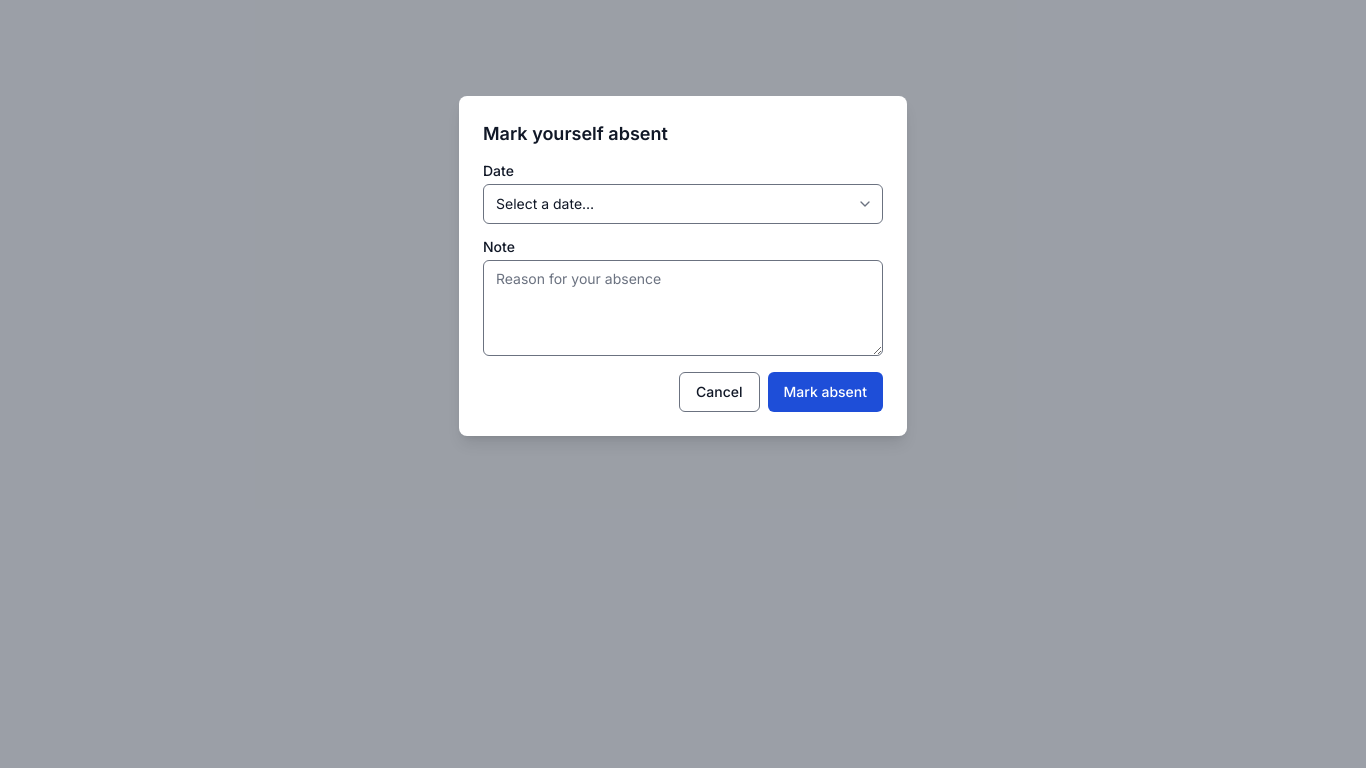
it: AbsenceMarkingDialog › only offers periods that are scheduled and not already cancelled/replaced
Select "Monday · Sep 14, 2026" in the dropdown labelled "Date" at x=683, y=204, box top-left (483, 184), bottom-right (883, 224)
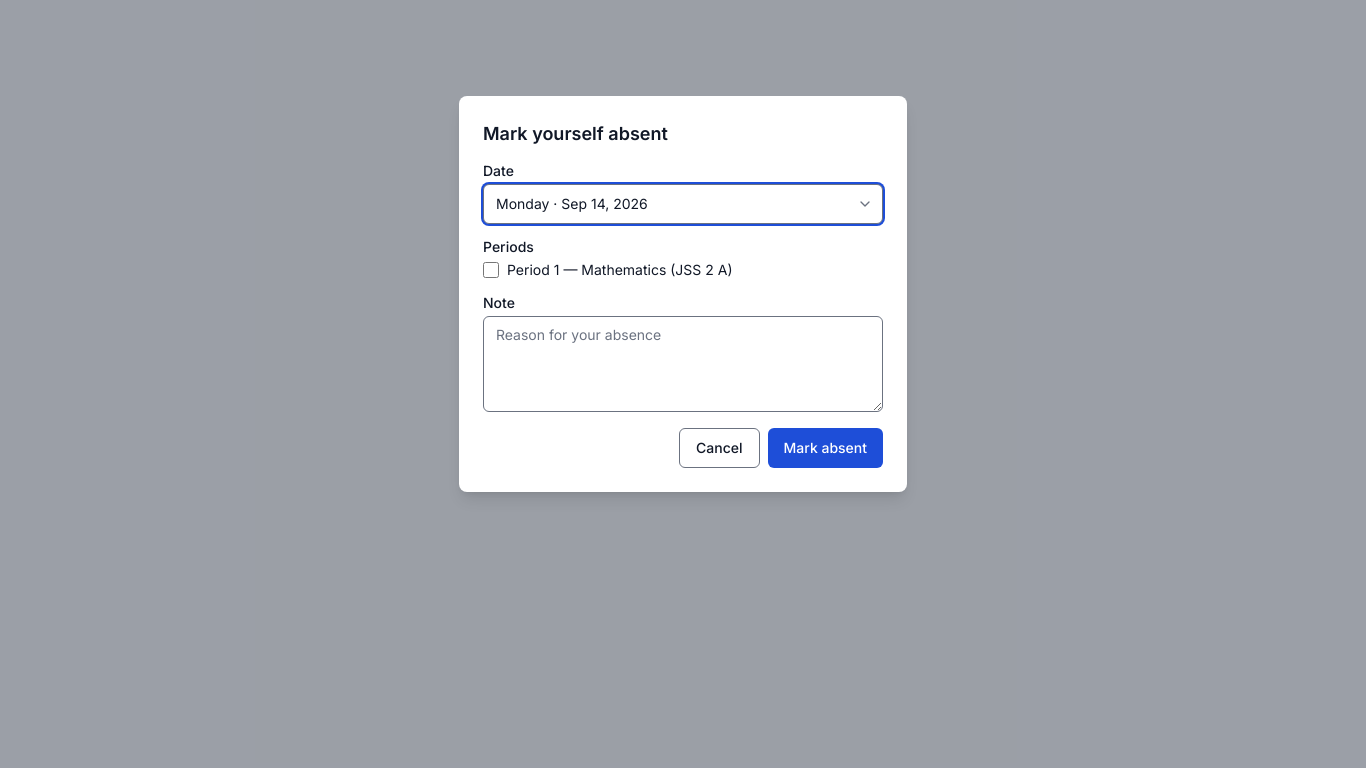
Check: the text "Period 1 — Mathematics (JSS 2 A)" is shown, box top-left (483, 261), bottom-right (732, 278)
